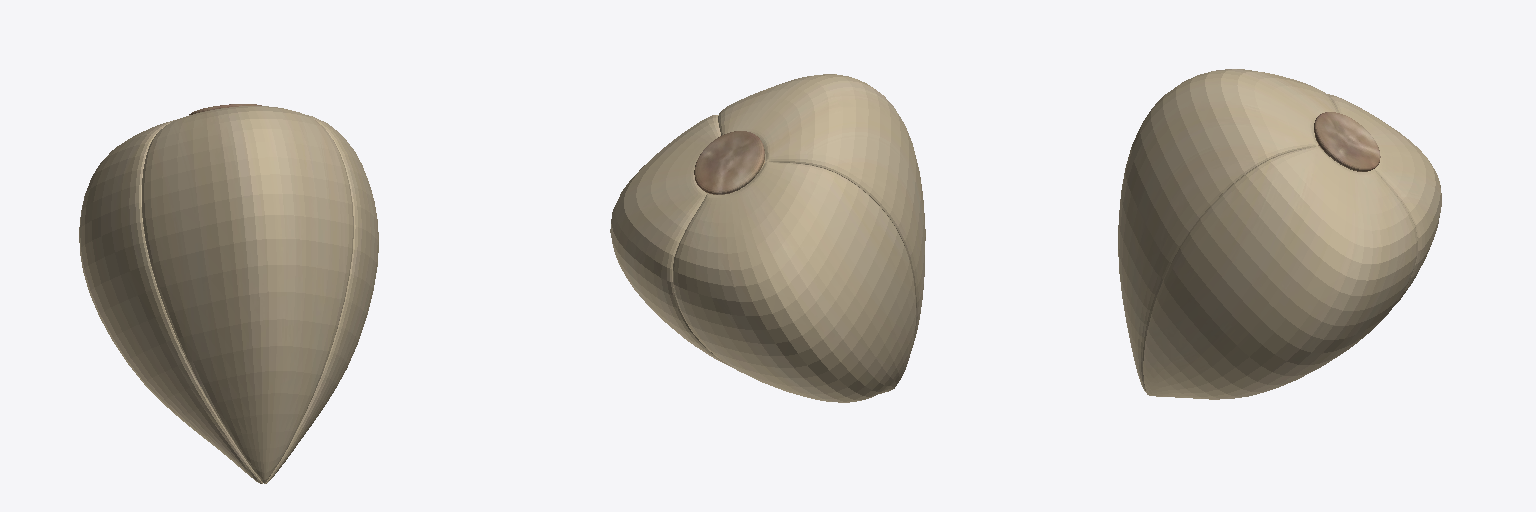
The picture shows the model from 3 angles: view 1: azimuth 30°, elevation 25°; view 2: azimuth 150°, elevation 25°; view 3: azimuth 270°, elevation 25°; orthographic projection.
Visible parts, largest first — view 1: GrainBuckwheat001; view 2: GrainBuckwheat001; view 3: GrainBuckwheat001.
Part boxes in pixels (bbox=[...]): GrainBuckwheat001: bbox=[79, 104, 378, 483]; GrainBuckwheat001: bbox=[610, 74, 925, 402]; GrainBuckwheat001: bbox=[1118, 69, 1441, 399].
Bounding box in the file's own units: 0.025 × 0.0307 × 0.0271.
Materials: 1 (1 with a texture image).